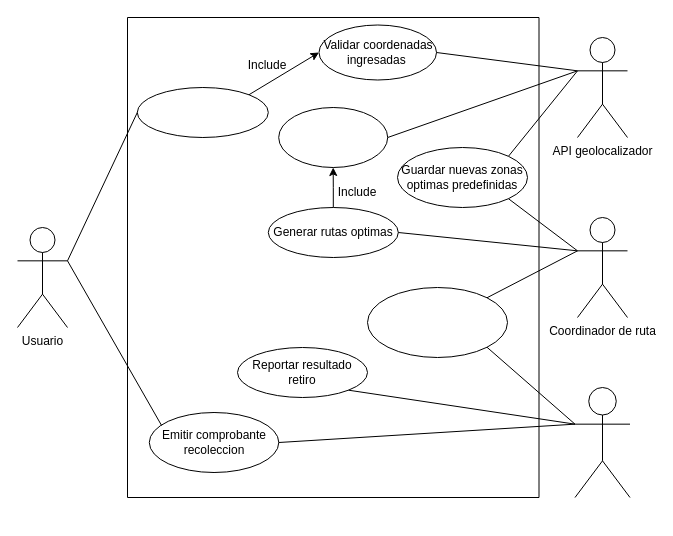
The diagram is 673 pixels wide and 536 high, and some of its shapes have lost their labels. Here are the shapes that lost their labels. From the top down, the centre of each, then its label:
point 202,112: Ingresar solicitud de retiro
point 333,137: Agrupar zonas de recoleccion
point 437,322: Notificar rutas asignadas a recolectores
point 602,442: Recolector
